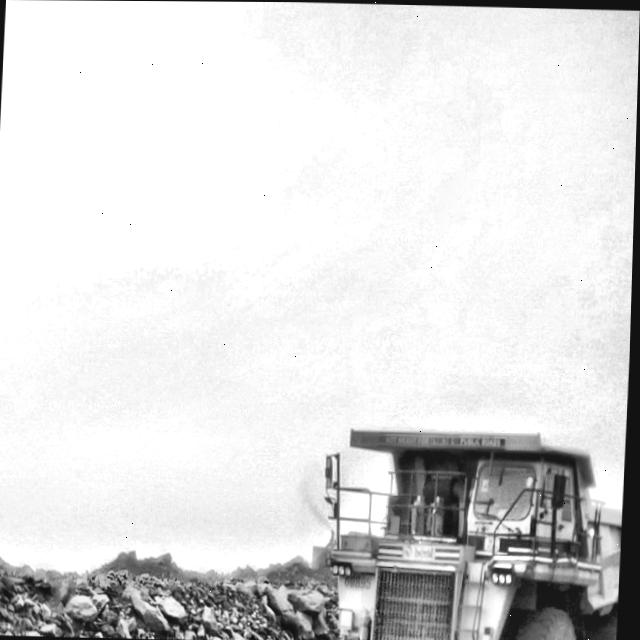dump_truck: (329, 430, 625, 640)
